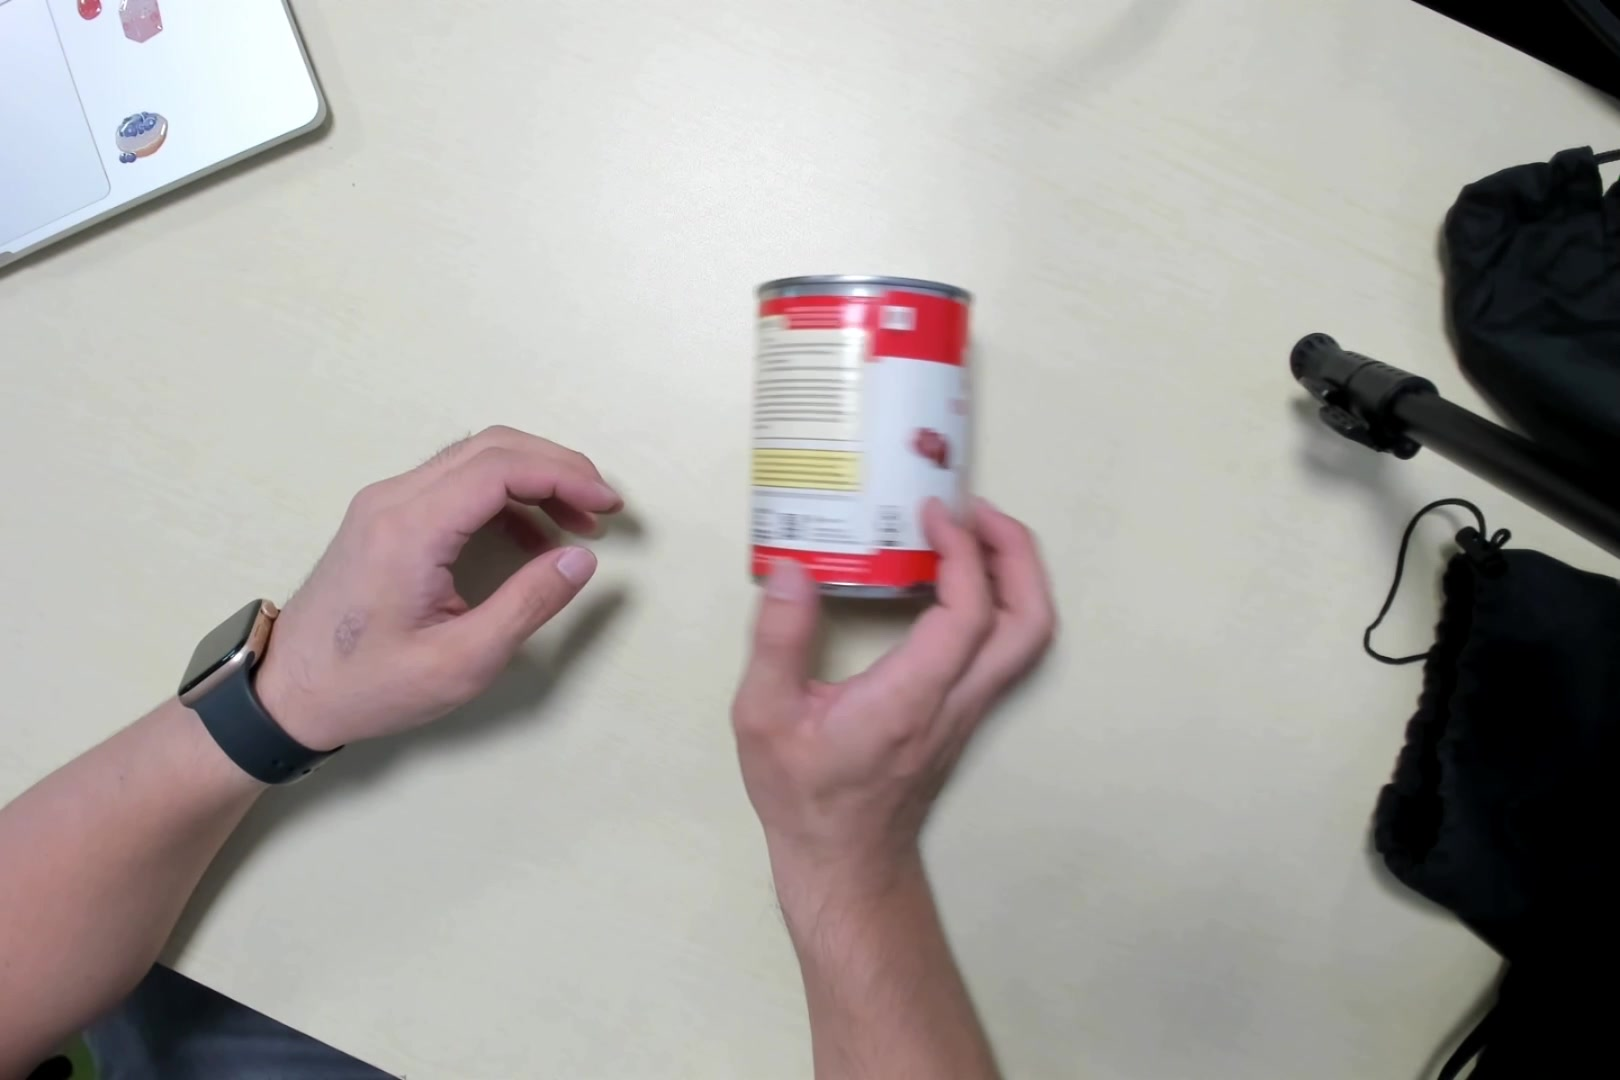OtherBakingNeeds_500-599g_NonHalal_NonHealthy: (751, 278, 970, 592)
